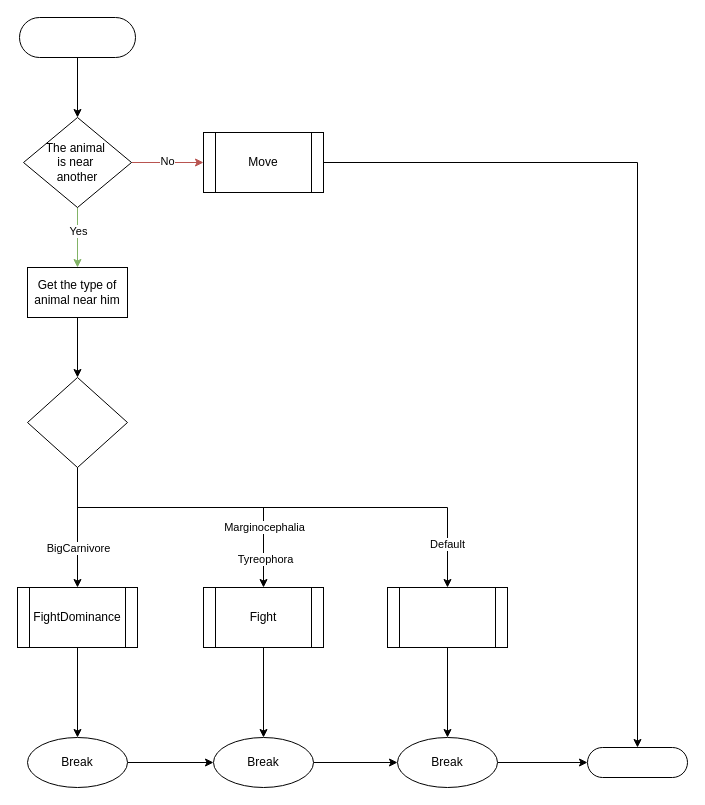
This 705x805 diagram has some shape labels left out. The centre of each missing label's shape, as x and y in pixels:
"Hunt" goes at (447,617).
"Log Interaction" goes at (637,762).
"User is monitoring animal" goes at (77,37).
"Verify type of animal" goes at (77,422).
